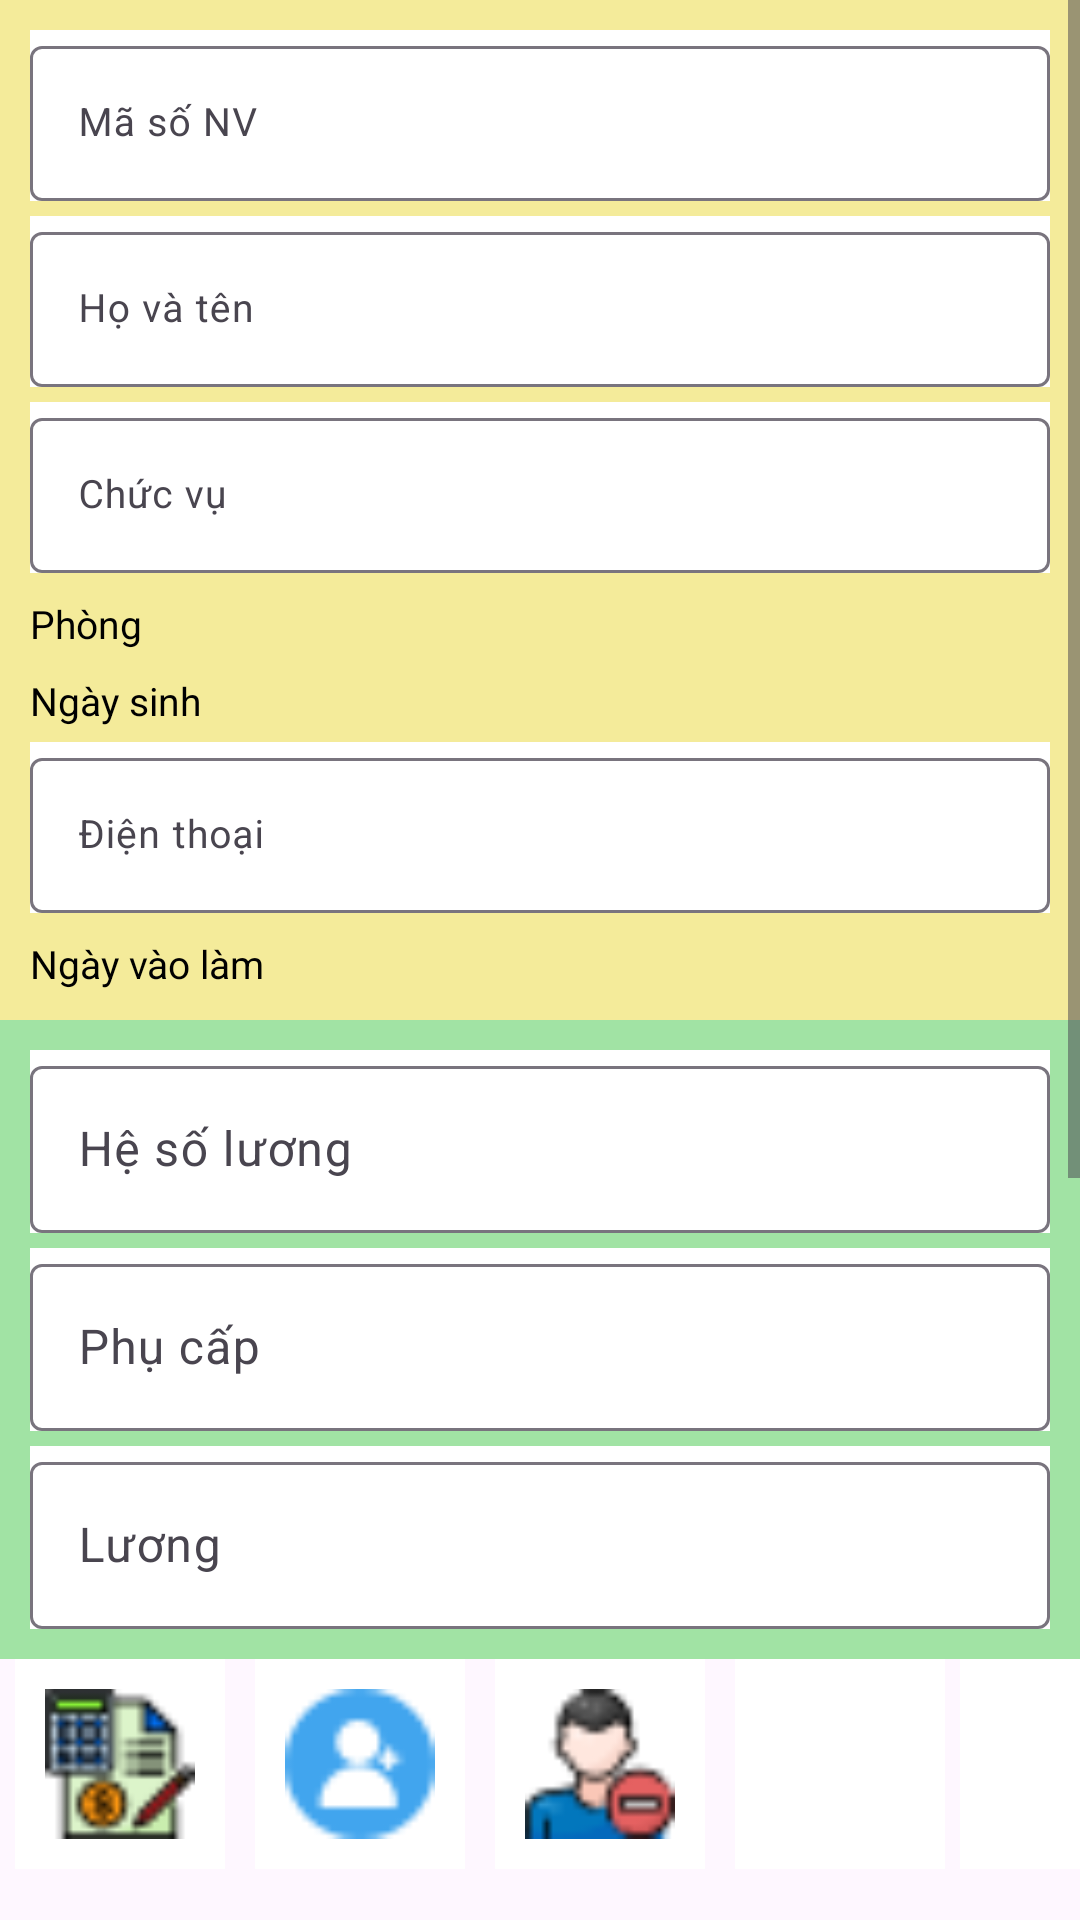

Icon bounding boxes for this 1080px×1920px phone screenshot, format (x1, y1, x2, y2):
add person: (285, 1689, 435, 1839)
cacular: (45, 1689, 195, 1839)
delete persion: (525, 1689, 675, 1839)
